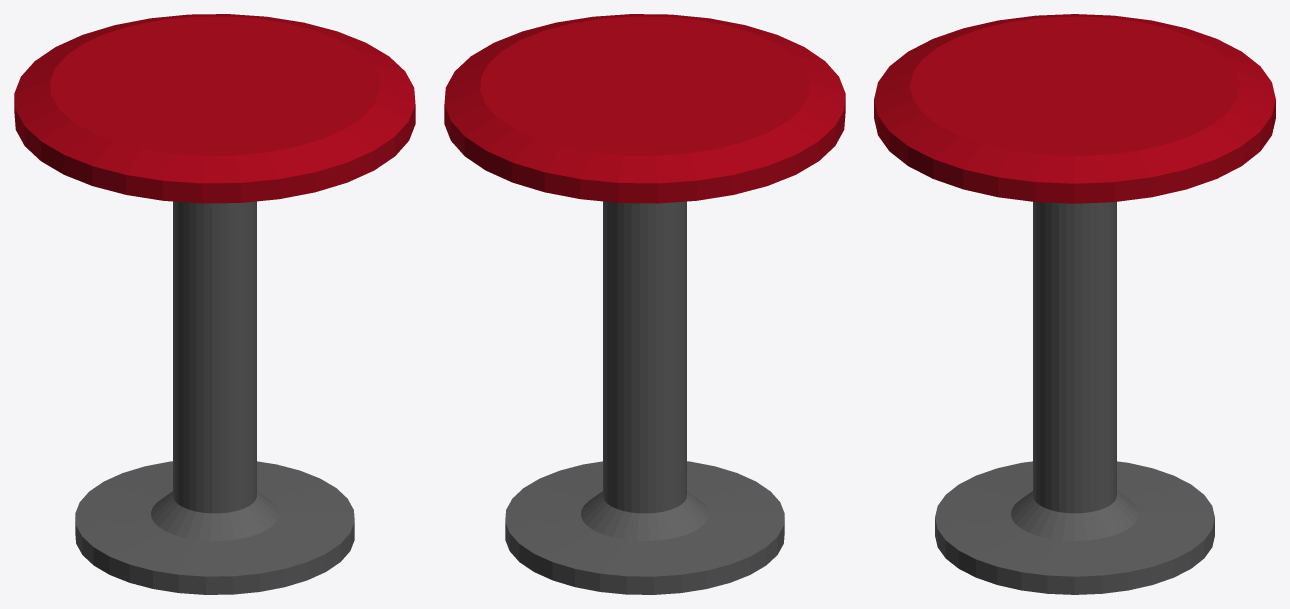
File: Chair.fbx
3 views of the same model, side by side, from view 1: azimuth 30°, elevation 25°; view 2: azimuth 150°, elevation 25°; view 3: azimuth 270°, elevation 25° (orthographic).
Visible parts, largest first — view 1: Chair; view 2: Chair; view 3: Chair.
Part boxes in pixels (x1,y1,x2,y2): Chair: [14, 14, 415, 594]; Chair: [444, 14, 845, 594]; Chair: [874, 14, 1275, 594].
Bounding box in the file's own units: 200 × 247 × 200.
